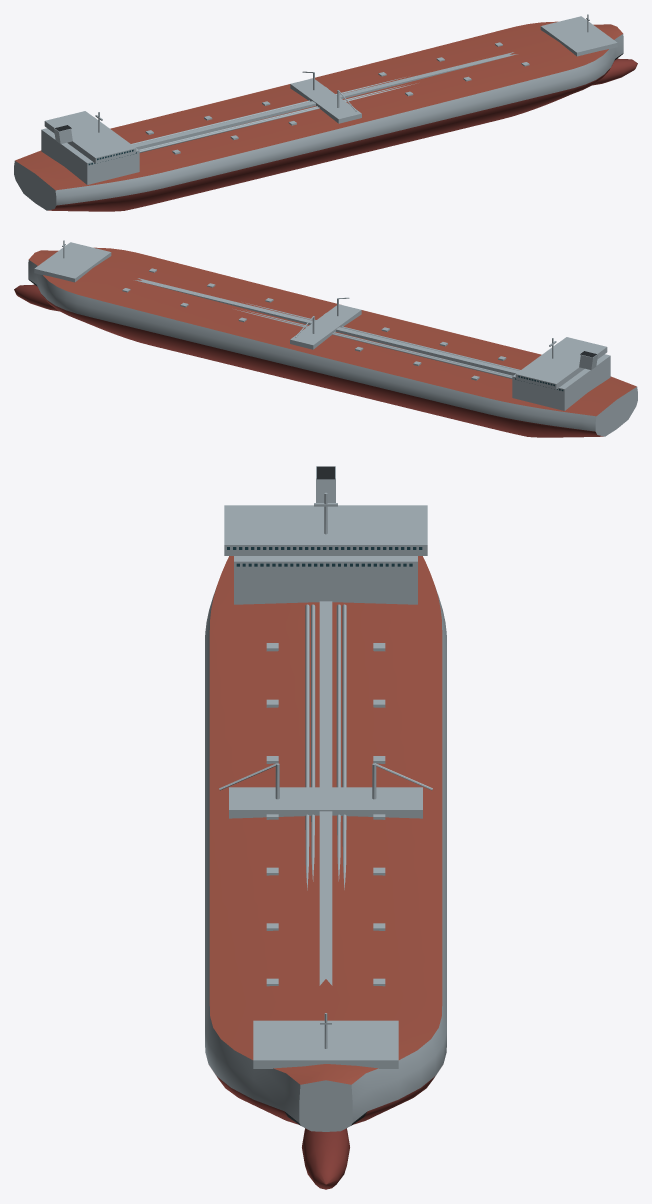
The model's file is civ_tanker_vlcc.glb.
3 renders of one model, top to bottom at view 1: azimuth 30°, elevation 25°; view 2: azimuth 150°, elevation 25°; view 3: azimuth 270°, elevation 25°, orthographic. The views are drawn at different scales.
Visible parts, largest first — view 1: naval_paint, hull_red, antifouling; view 2: naval_paint, hull_red, antifouling; view 3: hull_red, naval_paint, antifouling.
Boxes of the visible parts, <box> form: naval_paint: <box>14,14,623,210</box>; hull_red: <box>15,21,622,190</box>; antifouling: <box>48,58,637,211</box>; naval_paint: <box>28,240,637,436</box>; hull_red: <box>29,247,636,416</box>; antifouling: <box>14,284,603,437</box>; hull_red: <box>209,556,442,1084</box>; naval_paint: <box>205,466,446,1131</box>; antifouling: <box>215,1074,436,1189</box>.
Size of the model in its own units: 10 by 1.47 by 1.74.
